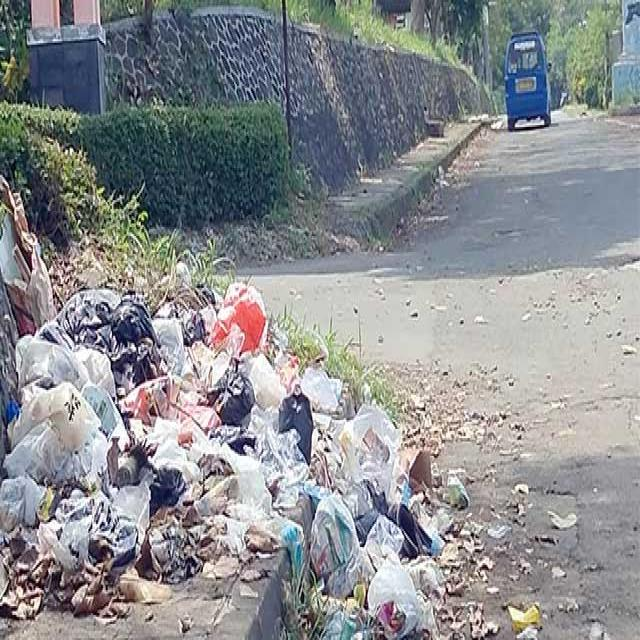trash: (0, 158, 478, 640)
